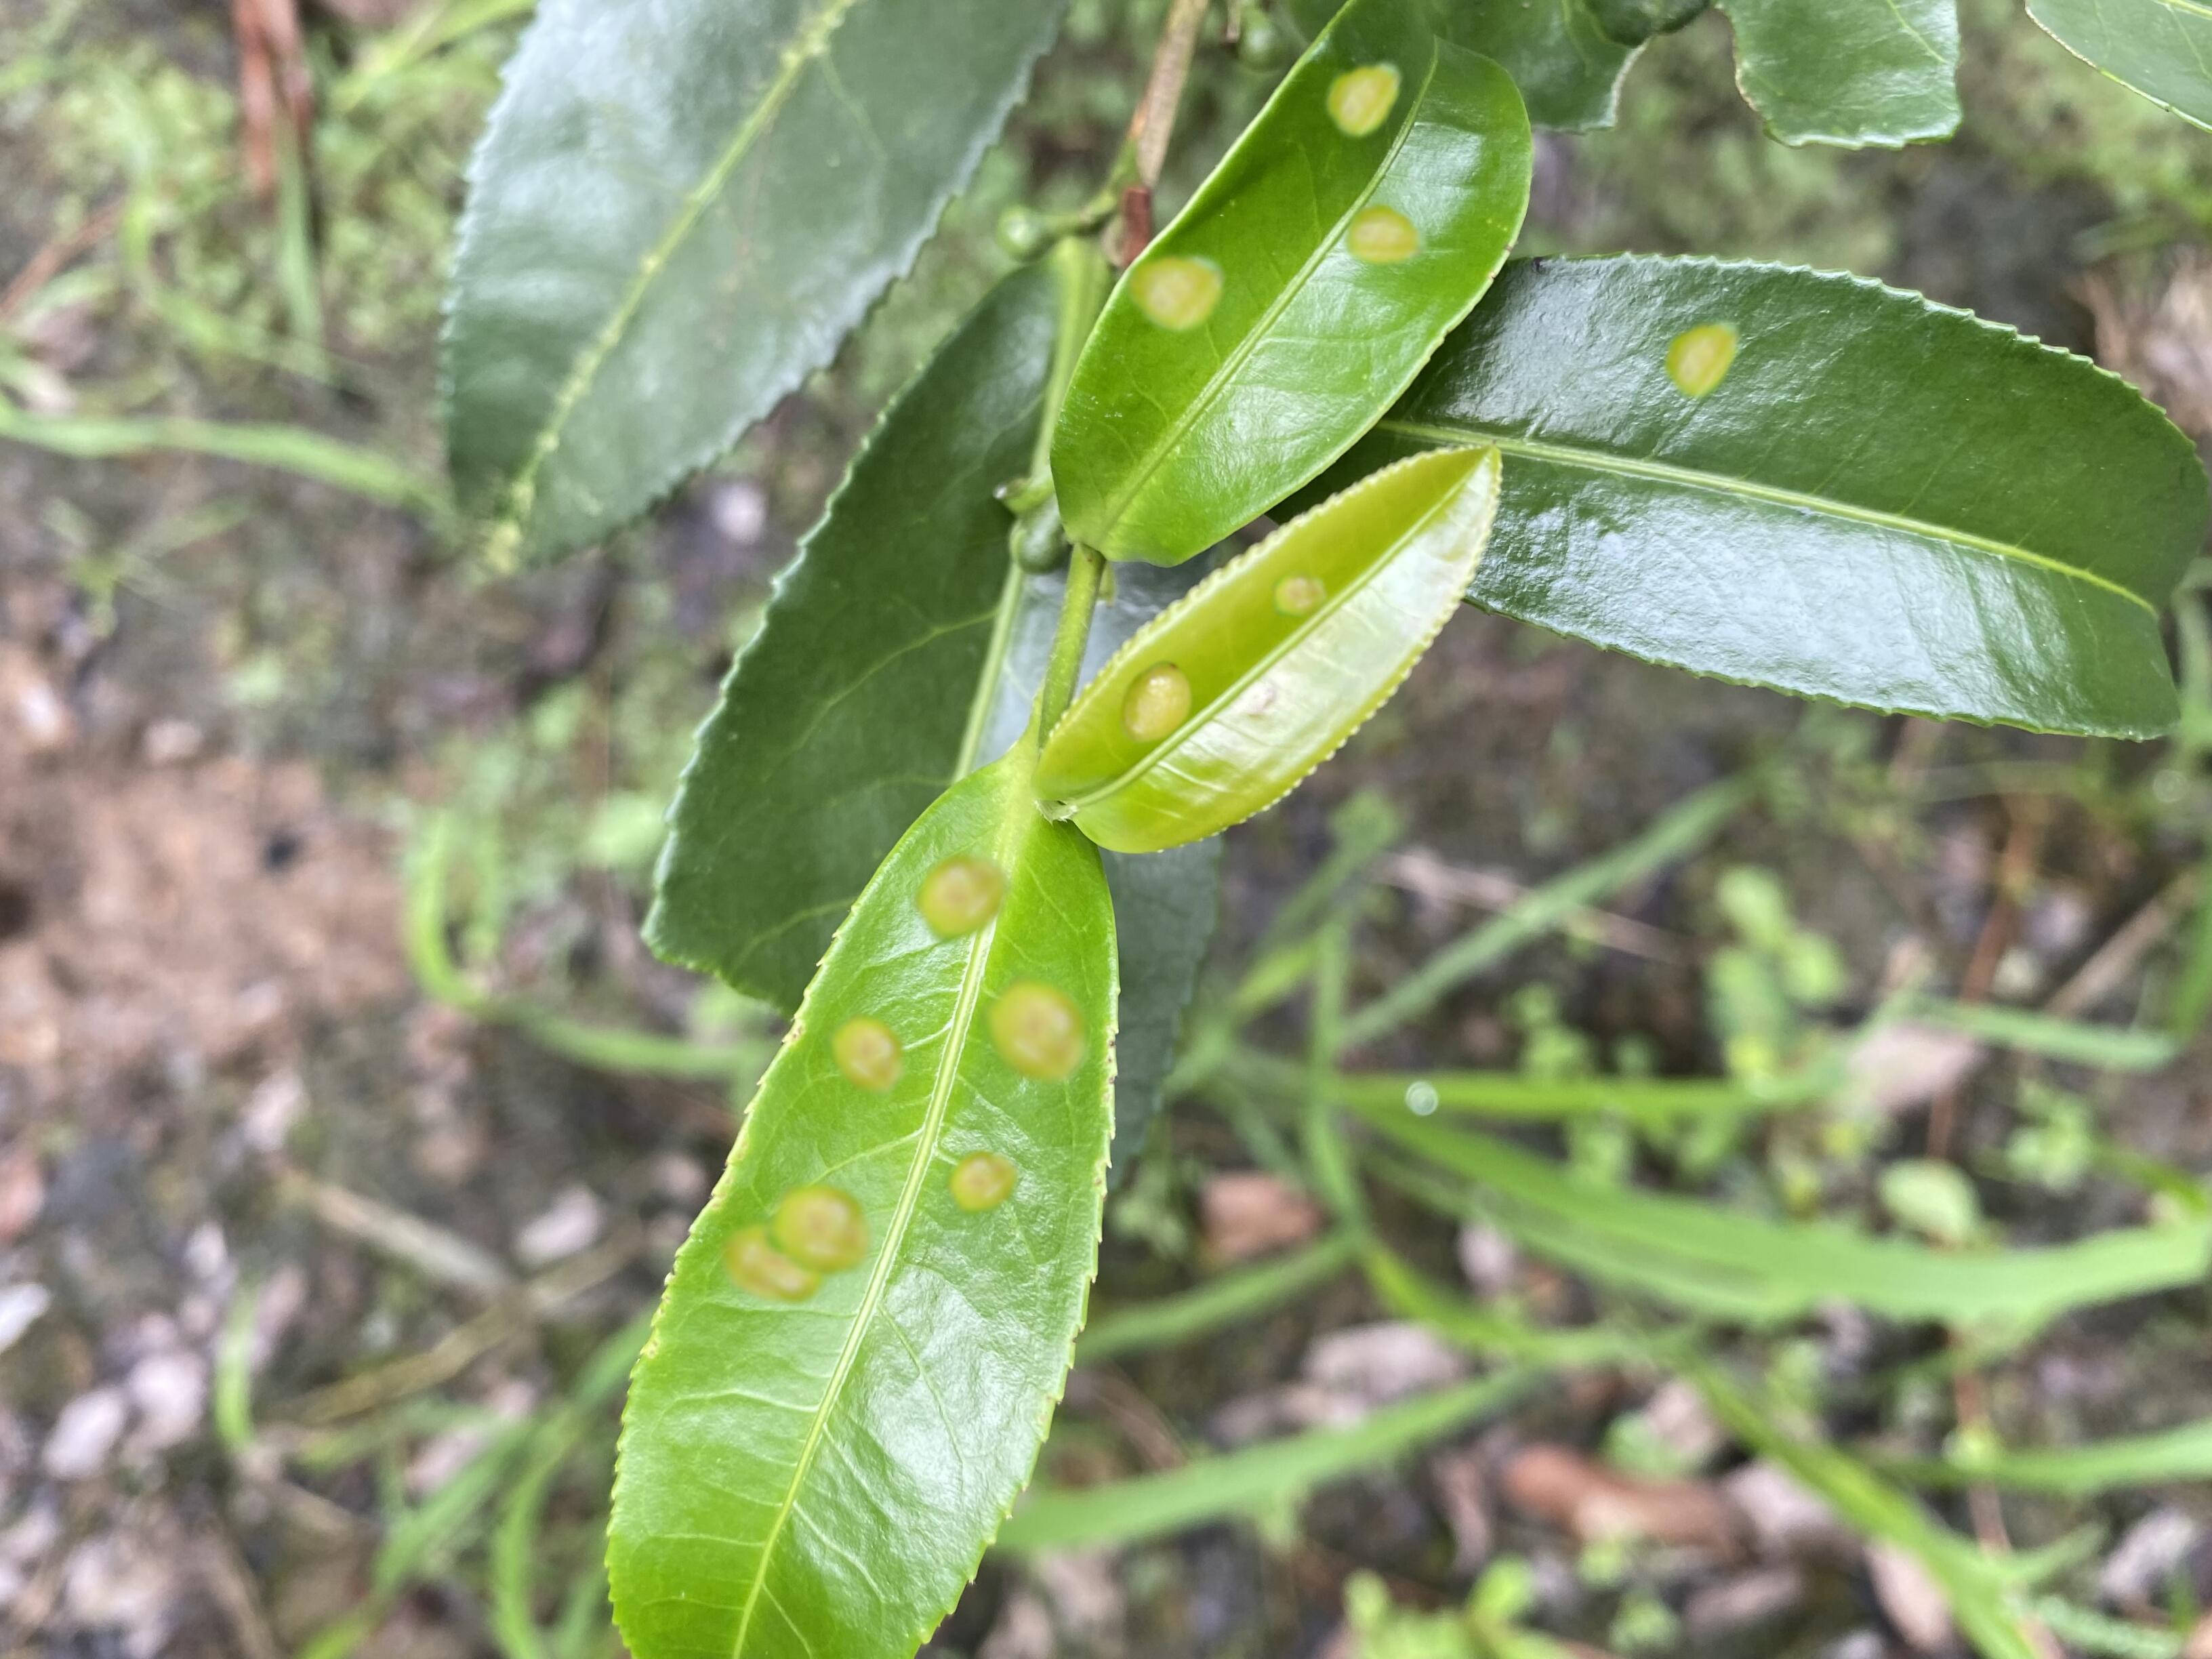chabing_high: (608, 751, 1116, 1659), (1052, 3, 1533, 568), (1031, 443, 1508, 861)
chabing_low: (1454, 247, 2209, 741)
